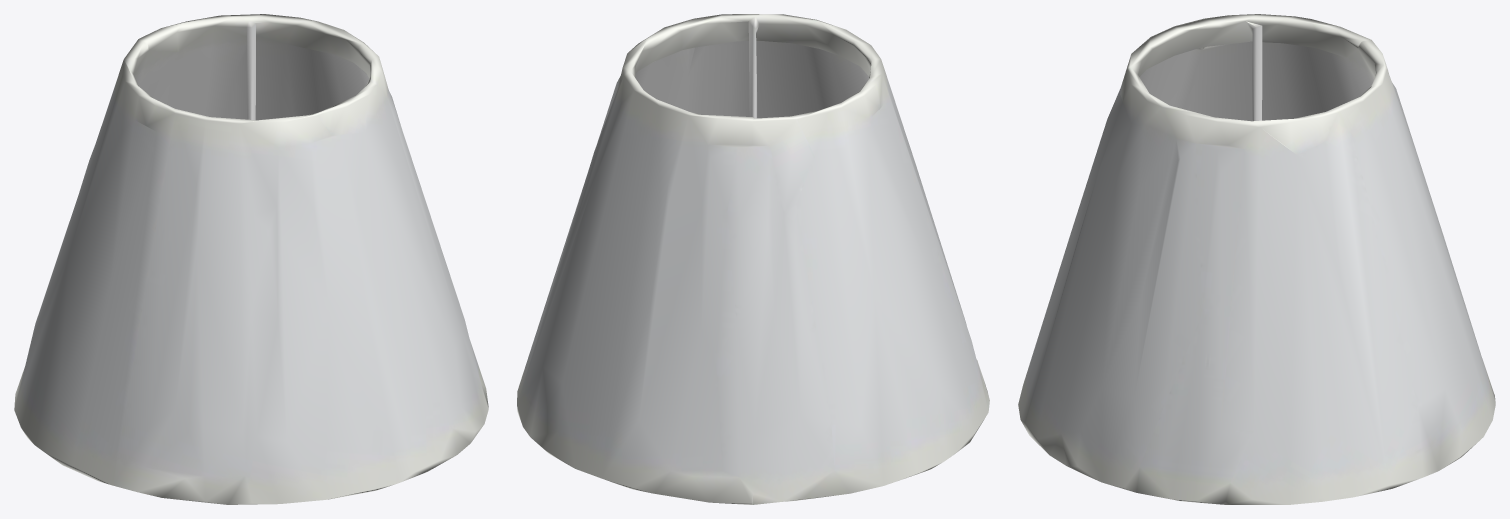
The model's file is 01 - MYRHULT - 燈罩, 白色, 19 公分 IKEA 線上購物.glb.
3 views of the same model, side by side, from view 1: azimuth 30°, elevation 25°; view 2: azimuth 150°, elevation 25°; view 3: azimuth 270°, elevation 25° (orthographic).
Parts seen in each view (by area): view 1: 60405451-MYRHULT001; view 2: 60405451-MYRHULT001; view 3: 60405451-MYRHULT001.
Boxes of the visible parts, x1,y1,x2,y2 form: 60405451-MYRHULT001: [14, 14, 488, 504]; 60405451-MYRHULT001: [517, 14, 989, 504]; 60405451-MYRHULT001: [1018, 14, 1495, 504].
Bounding box in the file's own units: 0.1911 × 0.1517 × 0.1923.
1 material, 1 textured.
